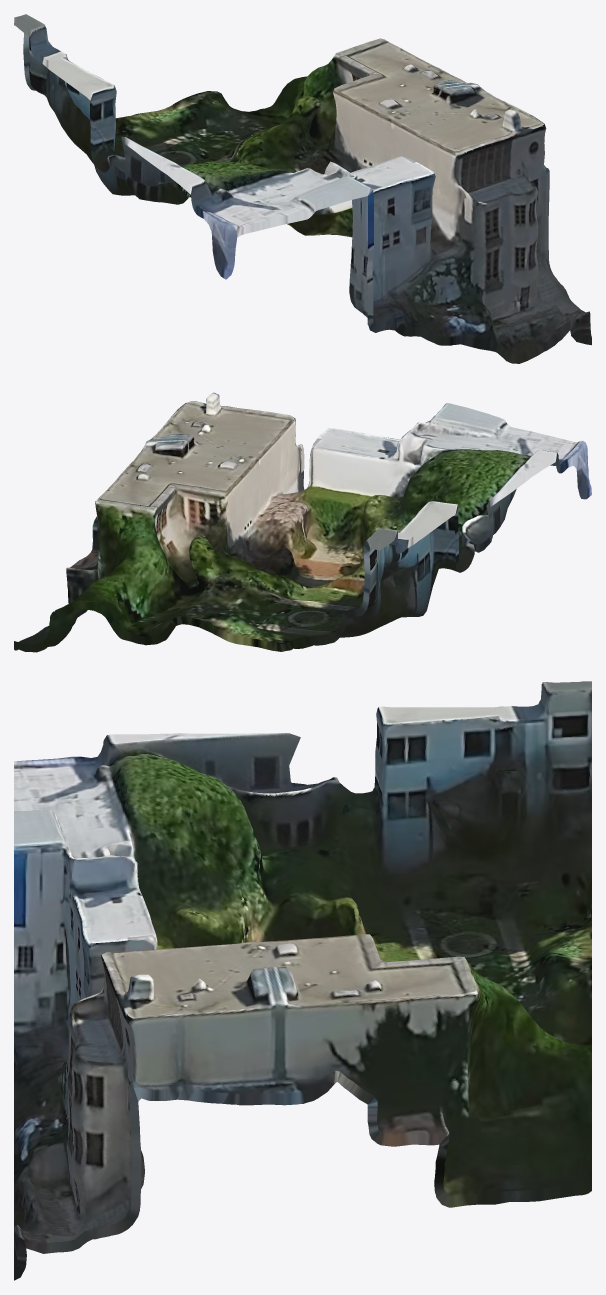
The model's file is z20-167718-405194-h0-yup-uvflip-v3-world.glb.
3 renders of one model, top to bottom at view 1: azimuth 30°, elevation 25°; view 2: azimuth 150°, elevation 25°; view 3: azimuth 270°, elevation 25°, orthographic. The views are drawn at different scales.
Size of the model in its own units: 30.2 by 20.76 by 30.32.
1 material, 1 textured.
